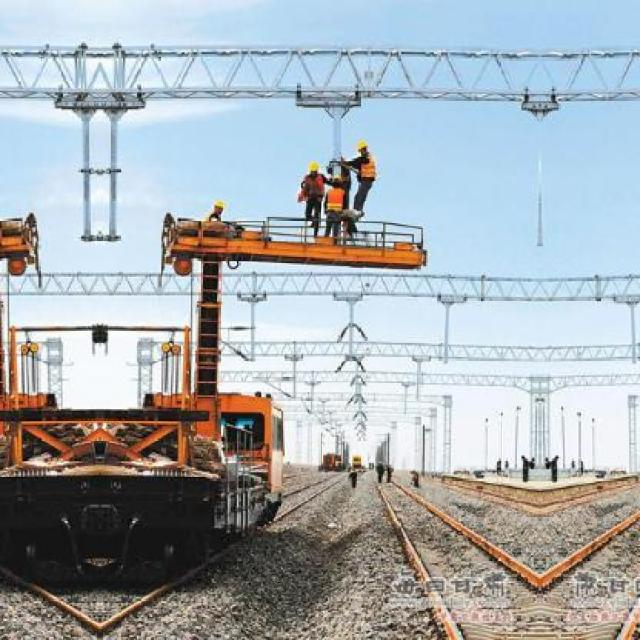helmet: (209, 198, 225, 217), (353, 138, 367, 158), (328, 172, 342, 191), (306, 160, 320, 178)
